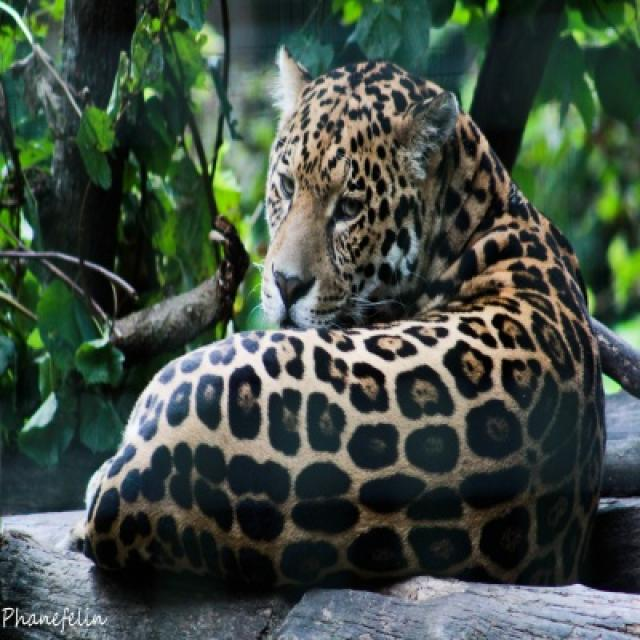Jaguar: (82, 54, 606, 592)
